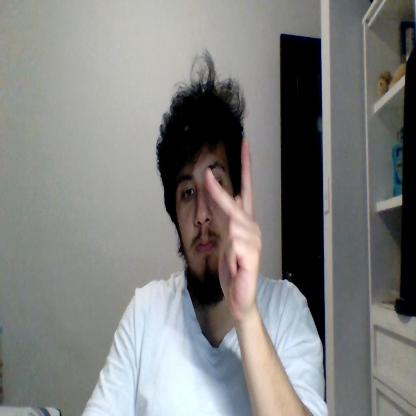P: (203, 140, 262, 314)
